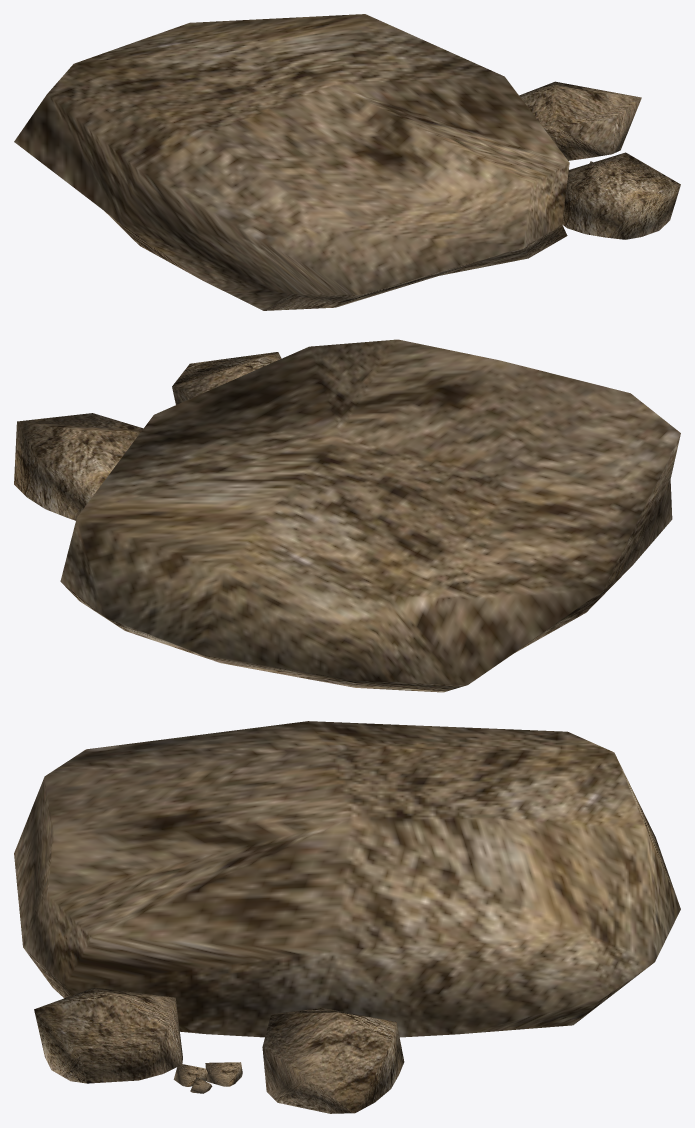
Rendered from stoneGroup2_tex1.fbx.
3 renders of one model, top to bottom at view 1: azimuth 30°, elevation 25°; view 2: azimuth 150°, elevation 25°; view 3: azimuth 270°, elevation 25°, orthographic. The views are drawn at different scales.
Parts seen in each view (by area): view 1: stoneGroup2_tex1Object; view 2: stoneGroup2_tex1Object; view 3: stoneGroup2_tex1Object.
Part boxes in pixels (left/top/right/bottom): stoneGroup2_tex1Object: left=14, top=14, right=680, bottom=310; stoneGroup2_tex1Object: left=14, top=339, right=680, bottom=692; stoneGroup2_tex1Object: left=14, top=721, right=680, bottom=1113.
Size of the model in its own units: 1.38 by 0.2764 by 1.28.
1 material, 1 textured.
